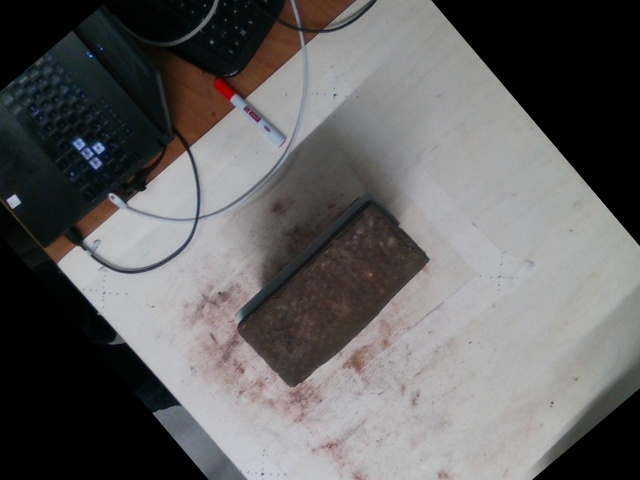brick: (239, 206, 430, 387)
